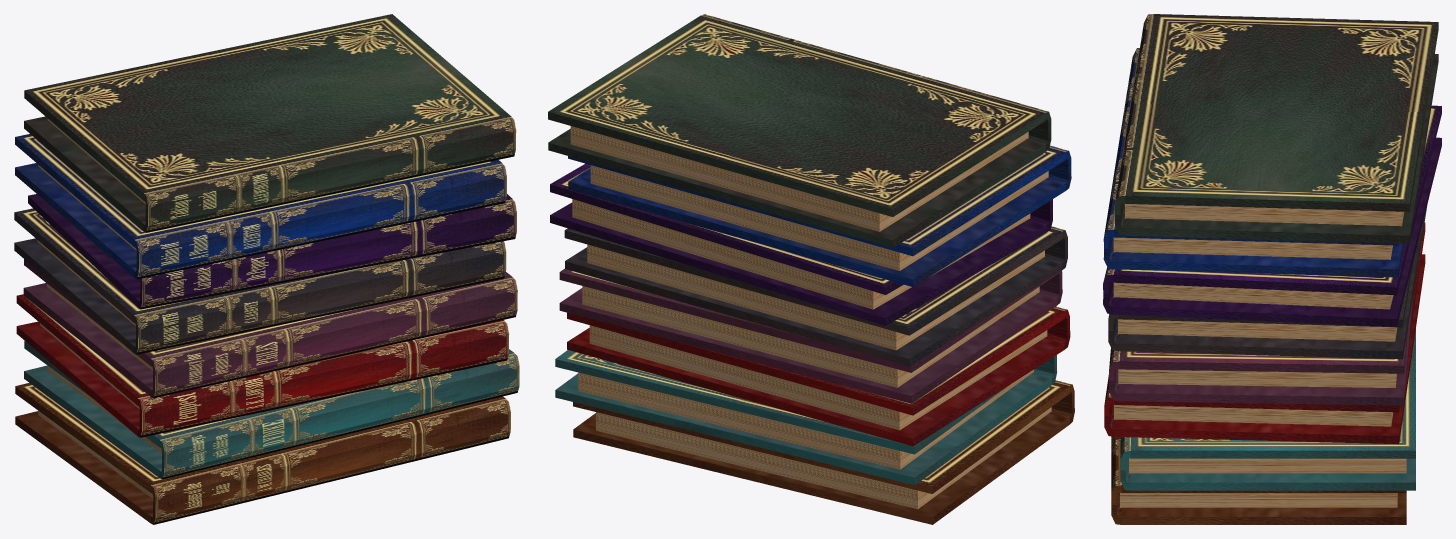
The model's file is pile_of_books.glb.
3 views of the same model, side by side, from view 1: azimuth 30°, elevation 25°; view 2: azimuth 150°, elevation 25°; view 3: azimuth 270°, elevation 25° (orthographic). The views are drawn at different scales.
Parts seen in each view (by area): view 1: Box006, Box004, Box002, Box005, Box008, Box003, Box009, Box007; view 2: Box006, Box005, Box003, Box009, Box002, Box004, Box008, Box007; view 3: Box006, Box007, Box009, Box008, Box003, Box004, Box005, Box002.
Boxes of the visible parts, bbox=[...] form: Box006: bbox=[24, 14, 516, 232]; Box004: bbox=[15, 134, 506, 279]; Box002: bbox=[15, 383, 510, 524]; Box005: bbox=[14, 208, 506, 354]; Box008: bbox=[23, 259, 517, 398]; Box003: bbox=[16, 294, 509, 437]; Box009: bbox=[24, 340, 519, 479]; Box007: bbox=[28, 194, 516, 309]; Box006: bbox=[548, 14, 1051, 247]; Box005: bbox=[564, 226, 1067, 366]; Box003: bbox=[567, 306, 1070, 446]; Box009: bbox=[555, 350, 1056, 485]; Box002: bbox=[573, 380, 1074, 524]; Box004: bbox=[568, 145, 1071, 286]; Box008: bbox=[559, 268, 1062, 403]; Box007: bbox=[550, 163, 1052, 325]; Box006: bbox=[1115, 14, 1438, 243]; Box007: bbox=[1103, 105, 1441, 326]; Box009: bbox=[1120, 329, 1415, 490]; Box008: bbox=[1109, 288, 1414, 405]; Box003: bbox=[1104, 222, 1425, 444]; Box004: bbox=[1103, 48, 1403, 277]; Box005: bbox=[1108, 205, 1427, 359]; Box002: bbox=[1111, 436, 1406, 524].
Size of the model in its own units: 54.54 by 42.39 by 39.07.
8 materials, 8 textured.
